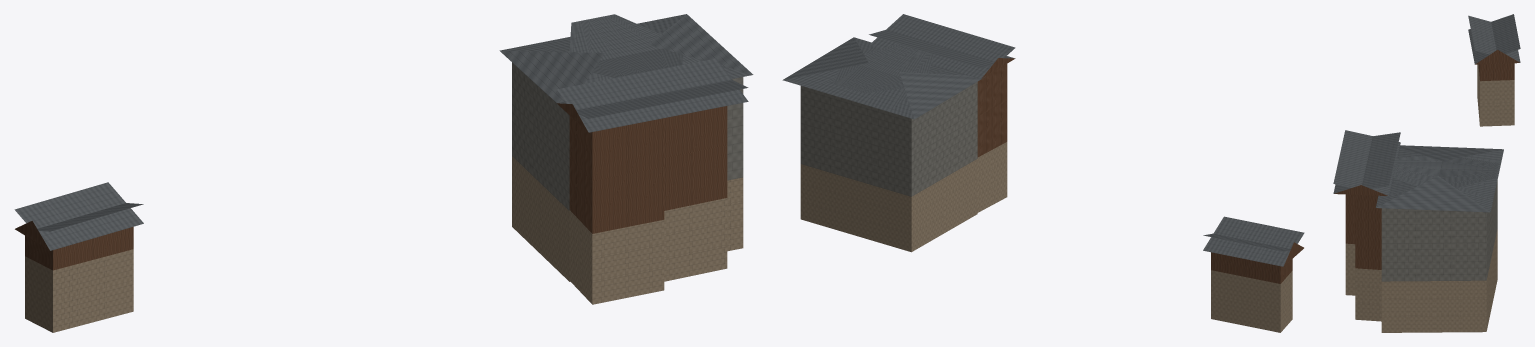
The model's file is bld_c32_-38_454.gltf.
The picture shows the model from 3 angles, left to right: view 1: azimuth 30°, elevation 25°; view 2: azimuth 150°, elevation 25°; view 3: azimuth 270°, elevation 25°; orthographic projection. The views are drawn at different scales.
Visible parts, largest first — view 1: bld_c32_-38_454; view 2: bld_c32_-38_454; view 3: bld_c32_-38_454.
Part boxes in pixels (x1,y1,x2,y2): bld_c32_-38_454: [14, 14, 753, 332]; bld_c32_-38_454: [782, 14, 1304, 332]; bld_c32_-38_454: [1333, 14, 1520, 332].
Size of the model in its own units: 49.49 by 13.8 by 16.82.
5 materials, 5 textured.
